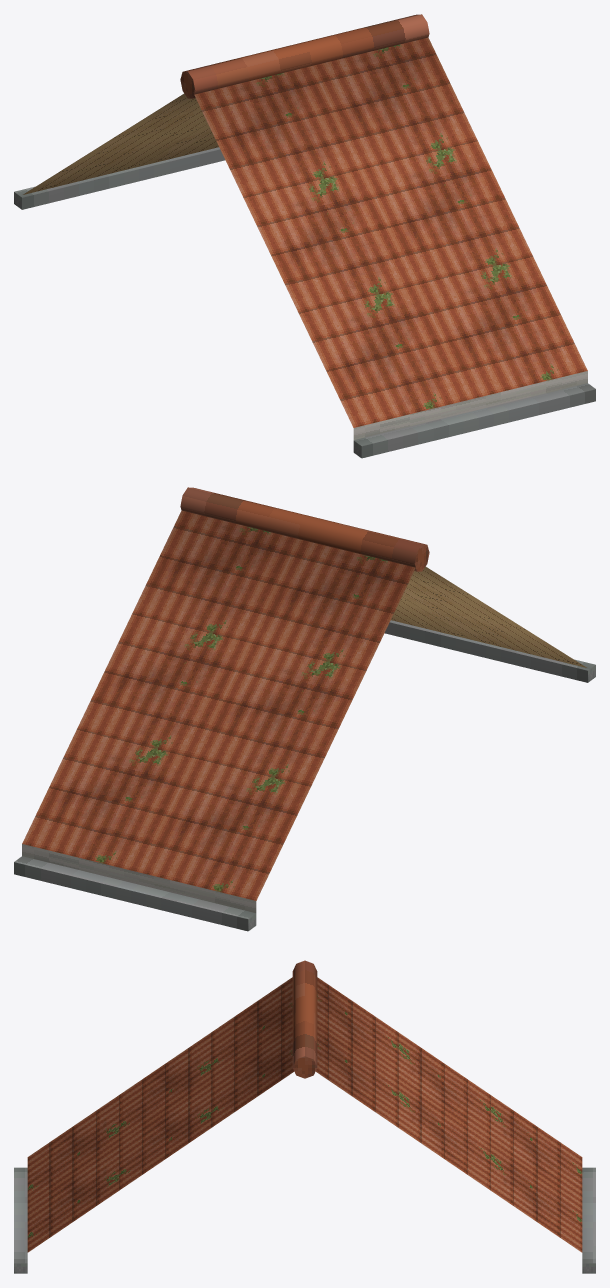
Rendered from roof_clay.glb.
The picture shows the model from 3 angles, top to bottom: view 1: azimuth 30°, elevation 25°; view 2: azimuth 150°, elevation 25°; view 3: azimuth 270°, elevation 25°; orthographic projection. The views are drawn at different scales.
Parts seen in each view (by area): view 1: roof_clay; view 2: roof_clay; view 3: roof_clay.
Boxes of the visible parts, x1,y1,x2,y2 form: roof_clay: (14,14,595,458); roof_clay: (14,487,595,931); roof_clay: (14,960,595,1273).
Bounding box in the file's own units: 2 × 2.12 × 5.14.
2 materials, 2 textured.
